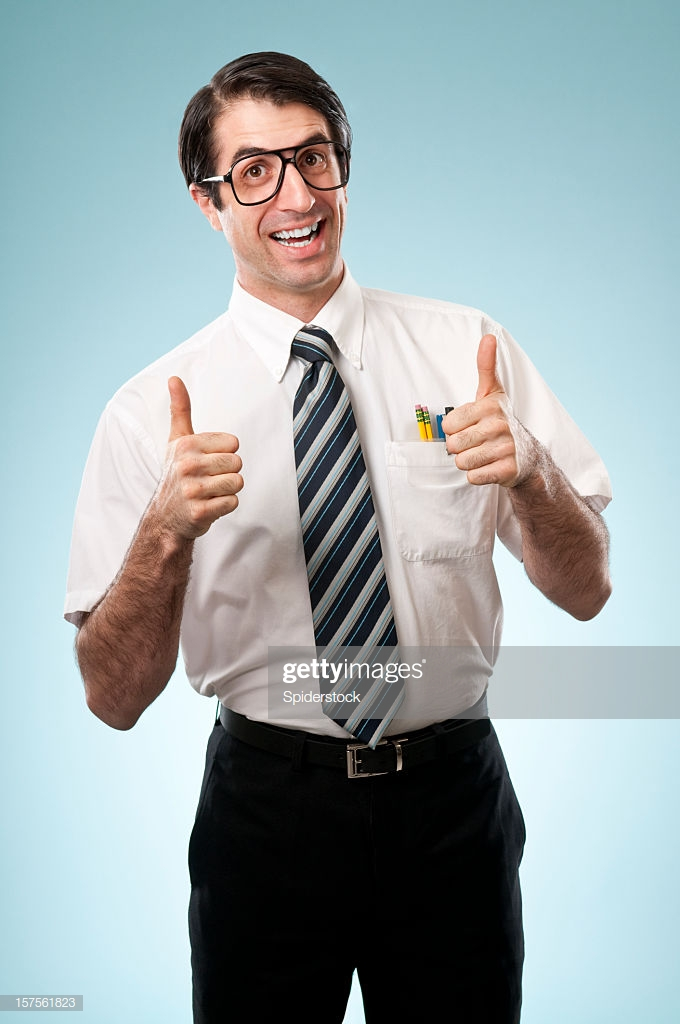thumbsup: (440, 333, 519, 487), (164, 374, 244, 522)
